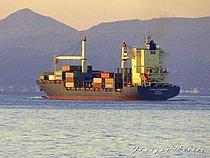Ship: (33, 29, 185, 106)
